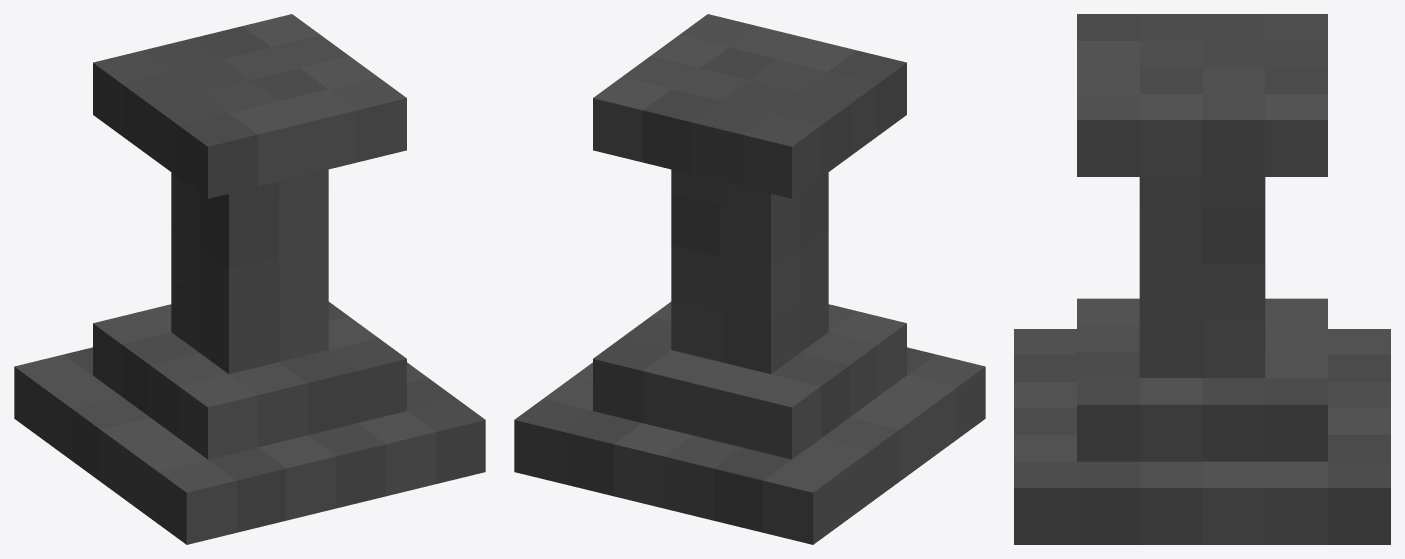
Rendered from pedestal.obj.
The picture shows the model from 3 angles, left to right: view 1: azimuth 30°, elevation 25°; view 2: azimuth 150°, elevation 25°; view 3: azimuth 270°, elevation 25°; orthographic projection. The views are drawn at different scales.
Parts seen in each view (by area): view 1: Element #14, Element #16, Element #15, Element #17; view 2: Element #14, Element #16, Element #15, Element #17; view 3: Element #14, Element #16, Element #15, Element #17.
Boxes of the visible parts, bbox=[...] form: Element #14: bbox=[14, 347, 485, 544]; Element #16: bbox=[93, 14, 406, 198]; Element #15: bbox=[93, 302, 406, 459]; Element #17: bbox=[171, 169, 328, 374]; Element #14: bbox=[514, 347, 985, 544]; Element #16: bbox=[593, 14, 906, 198]; Element #15: bbox=[593, 302, 906, 459]; Element #17: bbox=[671, 169, 828, 374]; Element #14: bbox=[1014, 329, 1390, 544]; Element #16: bbox=[1077, 14, 1327, 176]; Element #15: bbox=[1077, 298, 1327, 461]; Element #17: bbox=[1139, 177, 1265, 377].
Bounding box in the file's own units: 6 × 7 × 6.
Materials: 1 (1 with a texture image).
